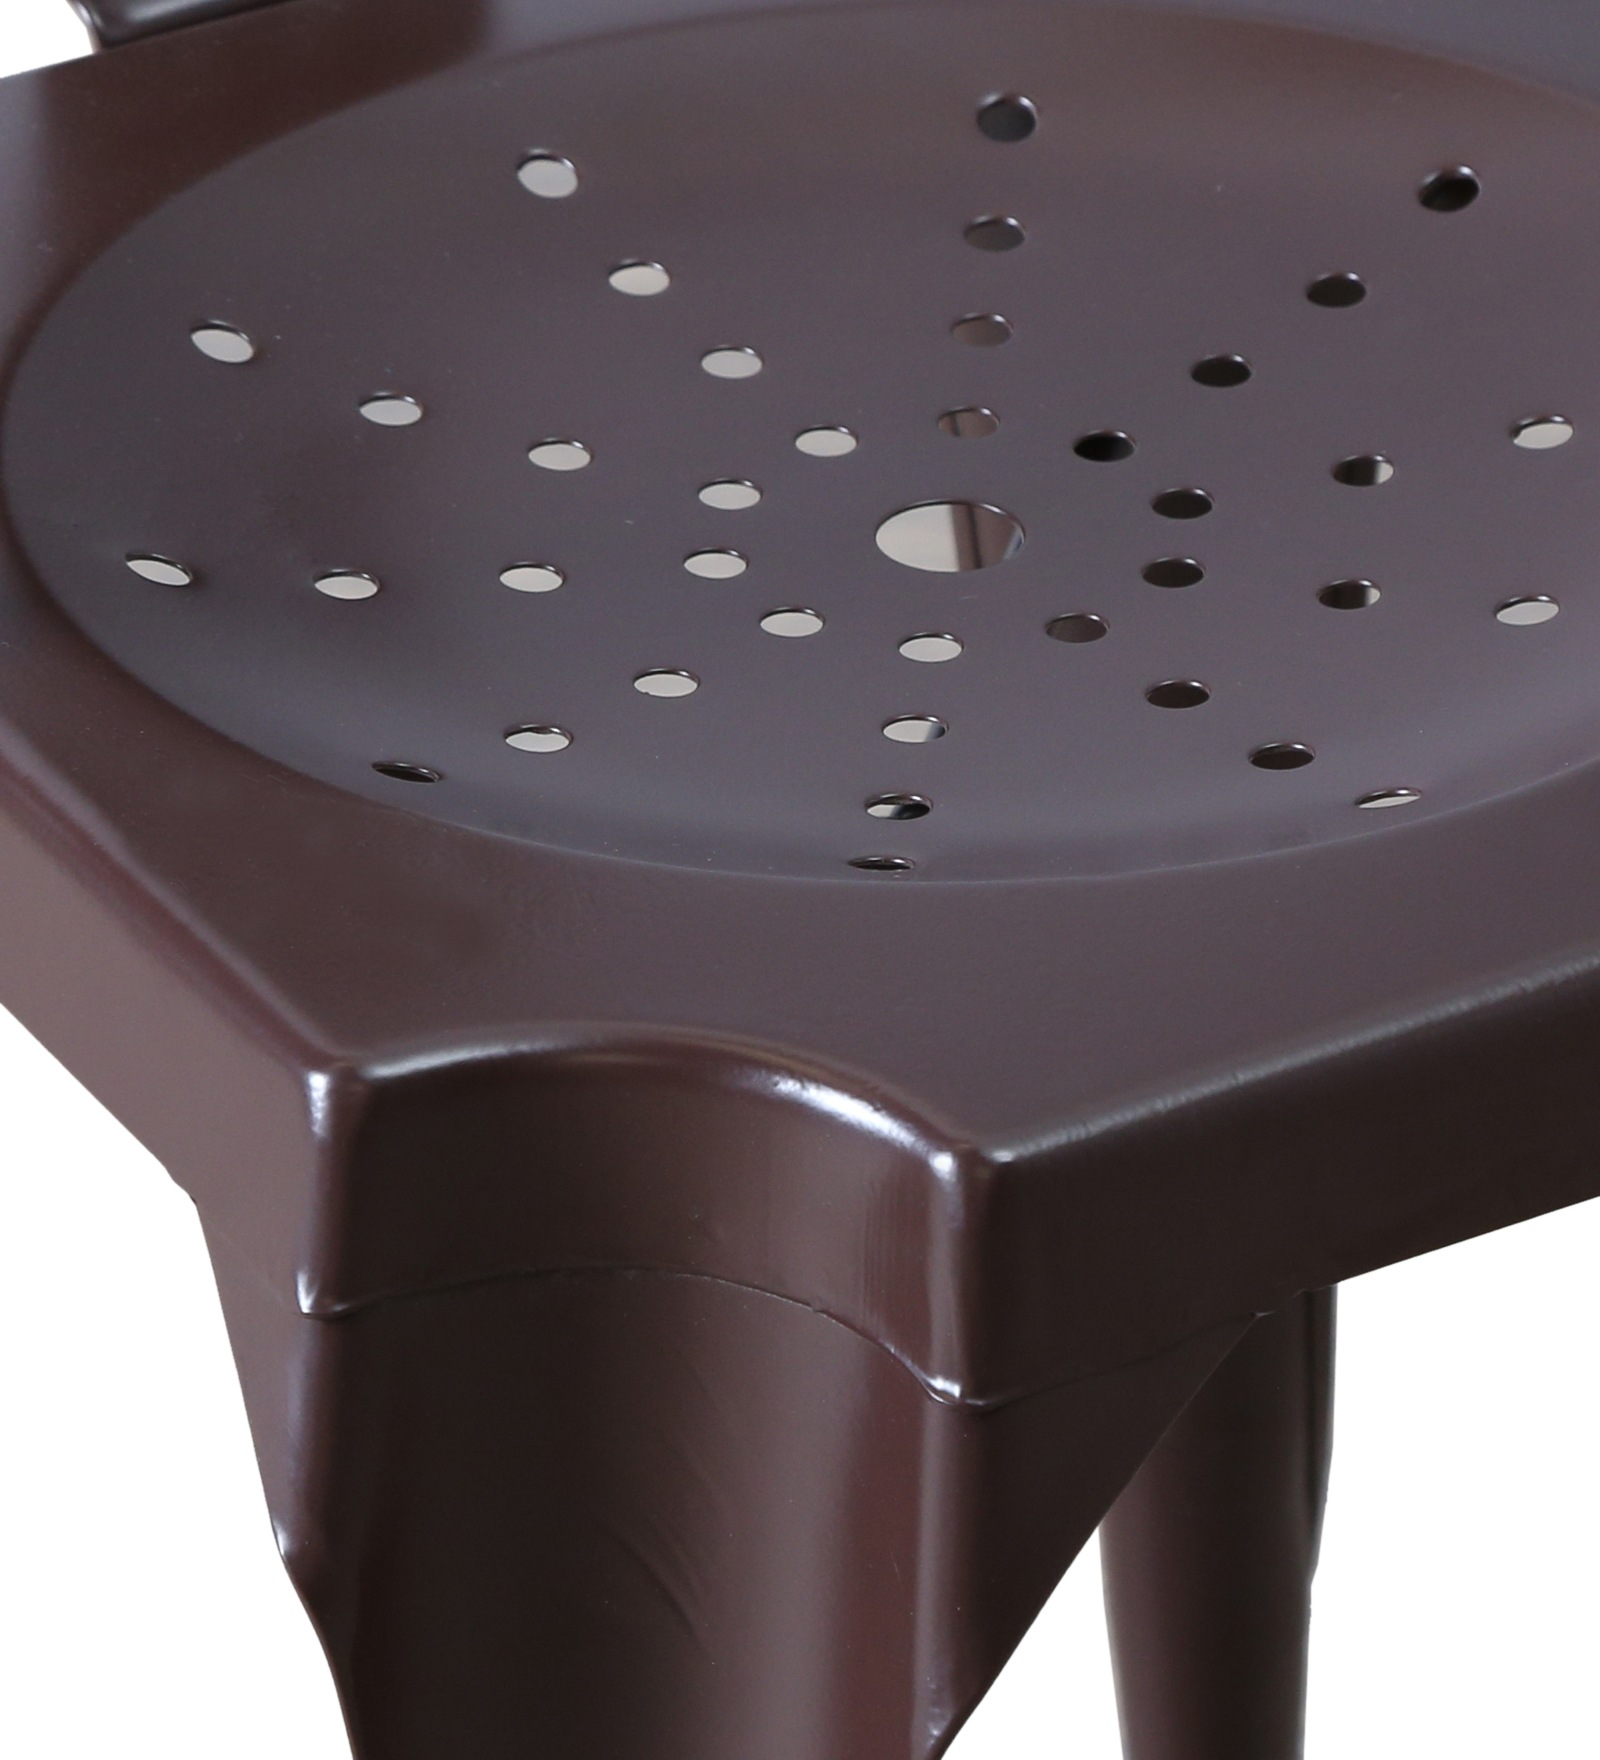Amos Metal Chair in Brown Color by Bohemiana: (35, 23, 1566, 1760)
